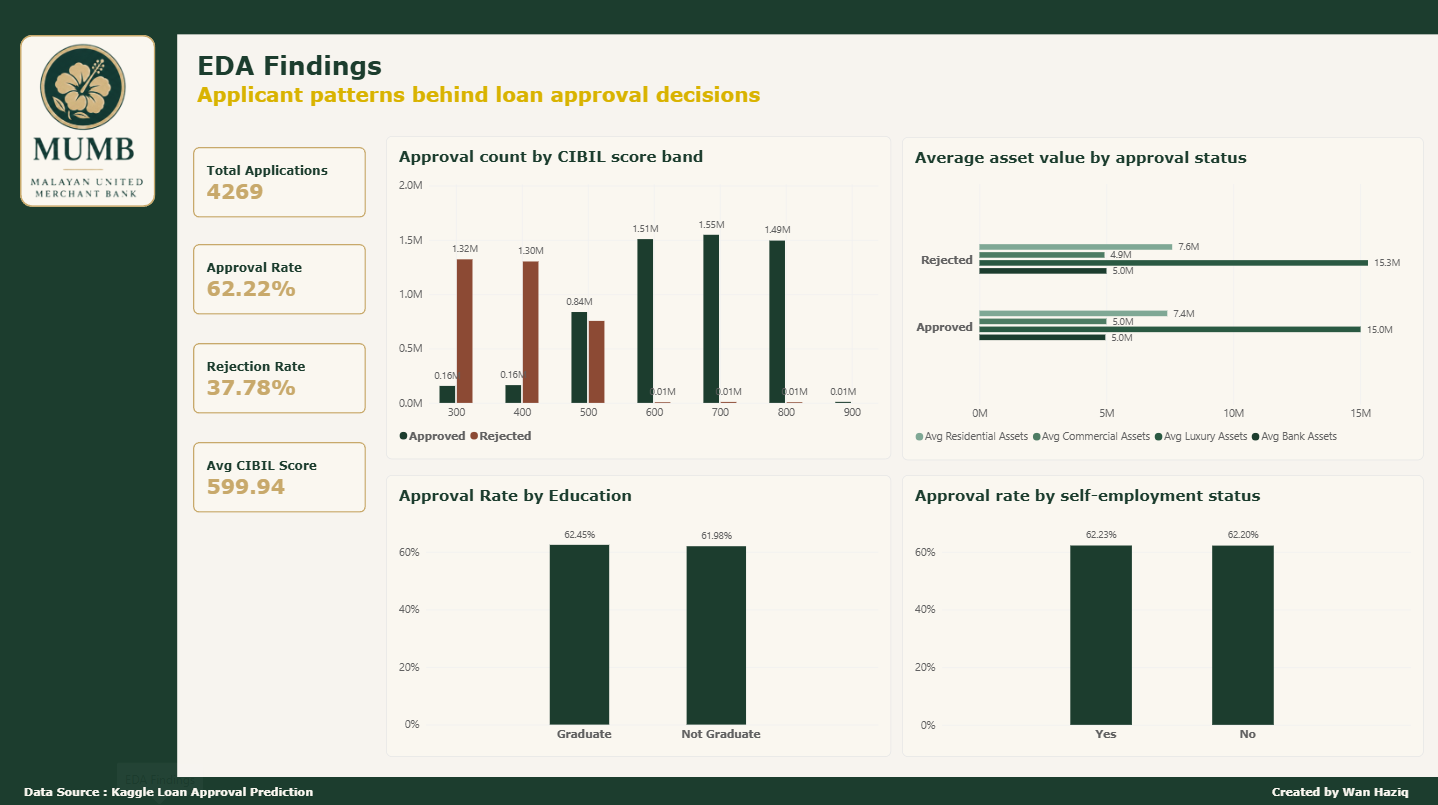

Layout of this report page (visuals, bound fields, positions):
{"tool":"powerbi","page":{"name":"EDA Findings","canvas":[1920,1080],"ordinal":0},"visuals":[{"type":"shape","box":[0,1038.6,1920,41.4],"z":0},{"type":"textbox","title":"Data Source : Kaggle Loan Approval Prediction","box":[37.1,1050,505.7,20],"z":1000},{"type":"textbox","title":"Created by Wan Haziq","box":[1697.1,1050,200,20],"z":2000},{"type":"shape","box":[0,35.7,241.4,1014.3],"z":3000},{"type":"shape","box":[0,0,1920,51.4],"z":4000},{"type":"shape","box":[31.4,51.4,180,228.6],"z":5000},{"type":"image","box":[35,61,172,210],"z":6000},{"type":"textbox","title":"EDA Findings","box":[267.1,70,887.1,80],"z":7000},{"type":"clusteredColumnChart","title":"Approval count by CIBIL score band","fields":{"Category":["loan_approval_db loan_applications.cibil_score (bins)"],"Y":["Sum(loan_approval_db loan_applications.loan_id)"],"Series":["loan_approval_db loan_applications.loan_status_label"]},"box":[518.3,186.7,671.7,430],"z":8000},{"type":"clusteredColumnChart","title":"Approval Rate by Education","fields":{"Y":["loan_approval_db loan_applications.Approval Rate"],"Category":["loan_approval_db loan_applications.education_label"]},"box":[518.3,636.7,671.7,375],"z":9000},{"type":"clusteredColumnChart","title":"Approval rate by self-employment status","fields":{"Category":["loan_approval_db loan_applications.self_employed_label"],"Y":["loan_approval_db loan_applications.Approval Rate"]},"box":[1204.6,636.8,693.7,375.3],"z":10000},{"type":"clusteredBarChart","title":"Average asset value by approval status","fields":{"Category":["loan_approval_db loan_applications.loan_status_label"],"Y":["loan_approval_db loan_applications.Avg Residential Assets","loan_approval_db loan_applications.Avg Commercial Assets","loan_approval_db loan_applications.Avg Luxury Assets","loan_approval_db loan_applications.Avg Bank Assets"]},"box":[1204.6,187,693.7,429.5],"z":11000},{"type":"cardVisual","fields":{"Data":["CountNonNull(loan_approval_db loan_applications.loan_id)"]},"box":[261.5,200.5,230,94.8],"z":12000},{"type":"cardVisual","fields":{"Data":["loan_approval_db loan_applications.Approval Rate"]},"box":[261.5,329.3,230,94.8],"z":13000},{"type":"cardVisual","fields":{"Data":["loan_approval_db loan_applications.Rejection Rate"]},"box":[261.5,462,230,94.8],"z":14000},{"type":"cardVisual","fields":{"Data":["Avg(loan_approval_db loan_applications.cibil_score)"]},"box":[261.5,593.5,230,94.8],"z":15000}]}

Visuals, with their boxes in screenshot pixels (x1, y1, x2, y2), scaled from the page's 1920x1080 canvas onto the 1438x805 screenshot:
shape: x1=0 y1=774 x2=1437 y2=804
"Data Source : Kaggle Loan Approval Prediction" textbox: x1=28 y1=783 x2=407 y2=798
"Created by Wan Haziq" textbox: x1=1271 y1=783 x2=1421 y2=798
shape: x1=0 y1=27 x2=181 y2=783
shape: x1=0 y1=0 x2=1437 y2=38
shape: x1=24 y1=38 x2=158 y2=209
image: x1=26 y1=45 x2=155 y2=202
"EDA Findings" textbox: x1=200 y1=52 x2=864 y2=112
"Approval count by CIBIL score band" clusteredColumnChart: x1=388 y1=139 x2=891 y2=460
"Approval Rate by Education" clusteredColumnChart: x1=388 y1=475 x2=891 y2=754
"Approval rate by self-employment status" clusteredColumnChart: x1=902 y1=475 x2=1422 y2=754
"Average asset value by approval status" clusteredBarChart: x1=902 y1=139 x2=1422 y2=460
cardVisual - CountNonNull(loan_approval_db loan_applications.loan_id): x1=196 y1=149 x2=368 y2=220
cardVisual - loan_approval_db loan_applications.Approval Rate: x1=196 y1=245 x2=368 y2=316
cardVisual - loan_approval_db loan_applications.Rejection Rate: x1=196 y1=344 x2=368 y2=415
cardVisual - Avg(loan_approval_db loan_applications.cibil_score): x1=196 y1=442 x2=368 y2=513
